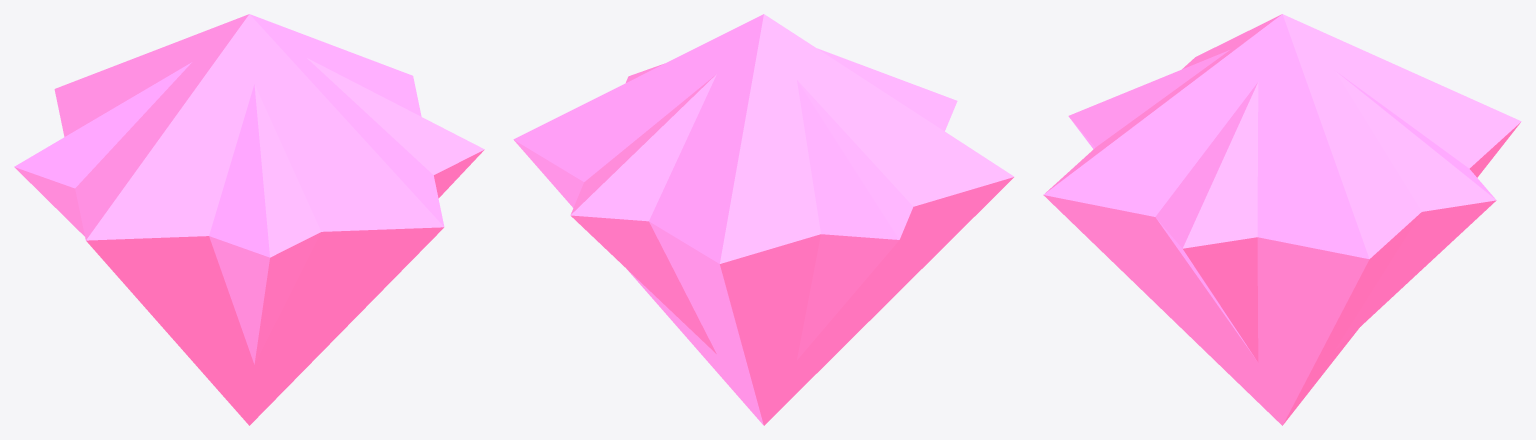
Rendered from vantage_rose.glb.
3 views of the same model, side by side, from view 1: azimuth 30°, elevation 25°; view 2: azimuth 150°, elevation 25°; view 3: azimuth 270°, elevation 25° (orthographic).
Parts seen in each view (by area): view 1: vantage_rose; view 2: vantage_rose; view 3: vantage_rose.
Part boxes in pixels (box(x1,y1,x2,y2)): vantage_rose: box(14, 14, 484, 425); vantage_rose: box(513, 14, 1014, 425); vantage_rose: box(1043, 14, 1521, 425).
Bounding box in the file's own units: 0.0526 × 0.05 × 0.0526.
